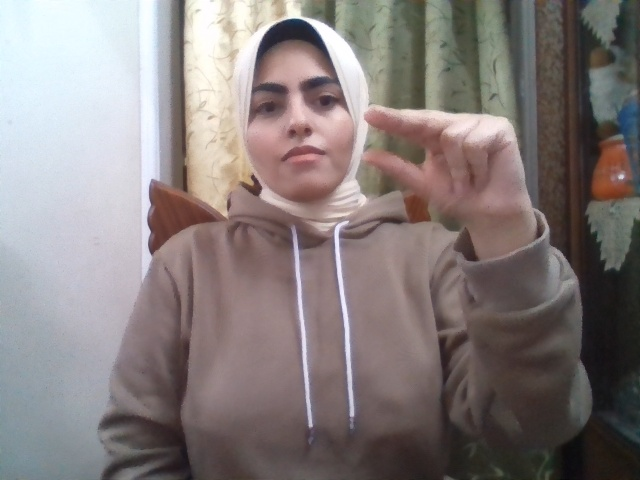no: (361, 104, 532, 220)
